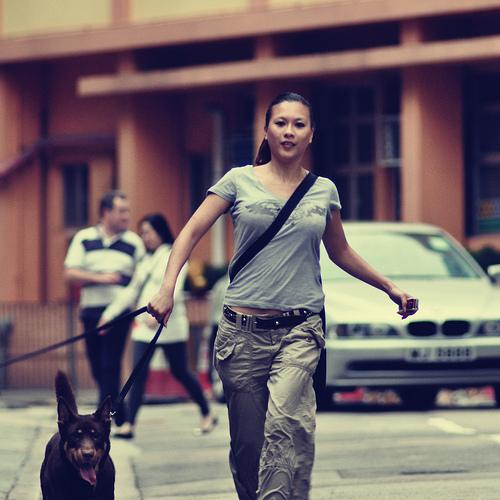person: (146, 93, 419, 500)
